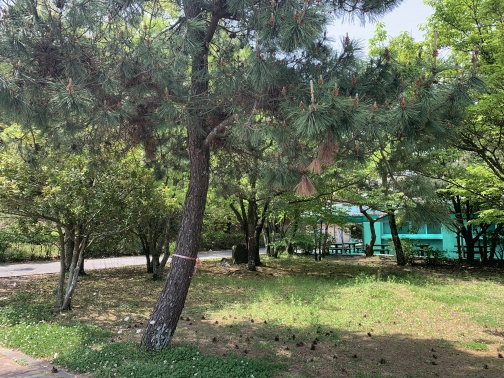Ara Hall: (295, 182, 503, 266)
